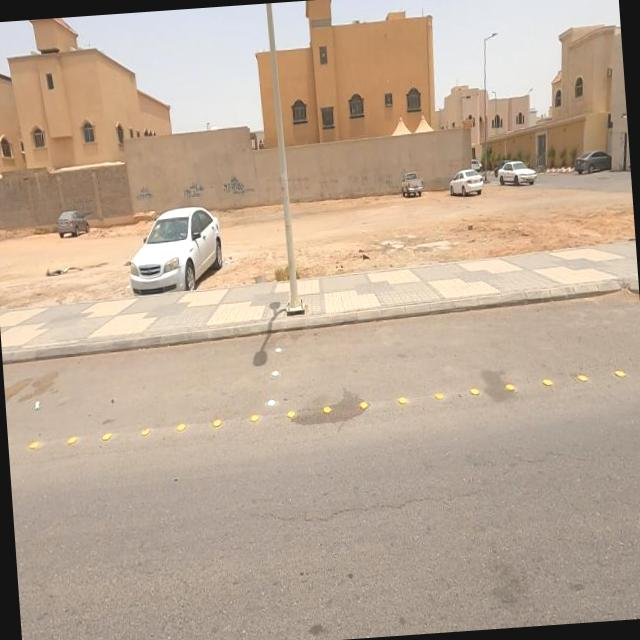debris: (160, 137, 228, 237), (198, 146, 272, 225), (352, 143, 426, 210), (110, 154, 172, 228)
